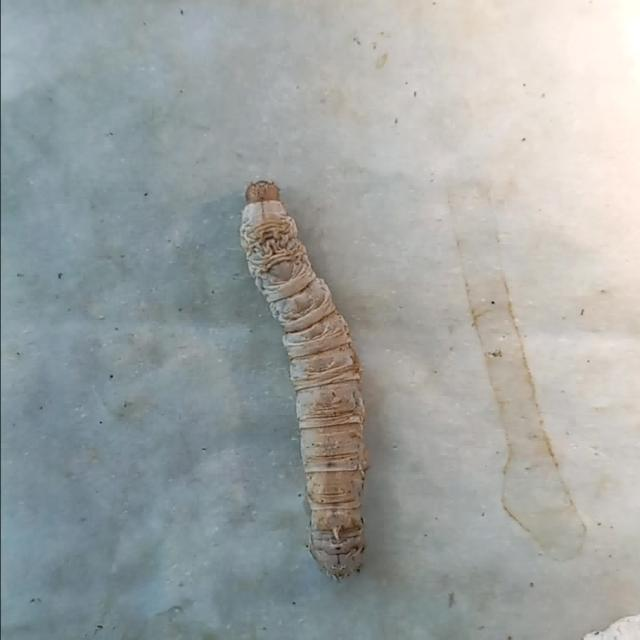Grasserie: (226, 154, 392, 585)
